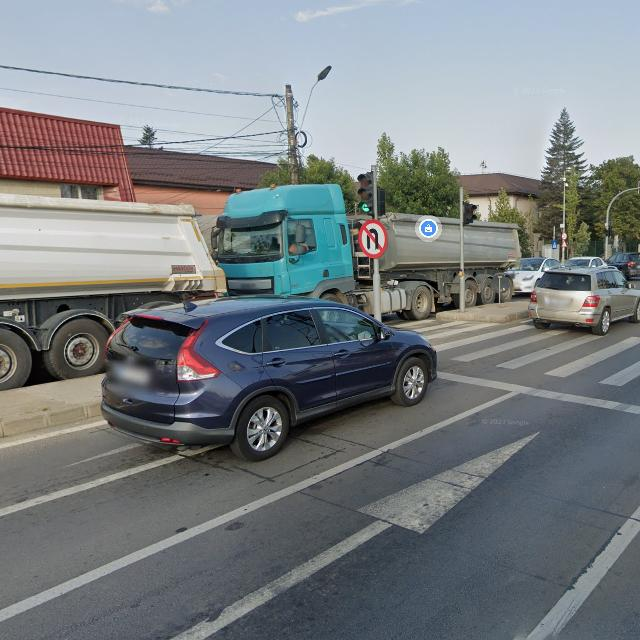forb_u_turn: (358, 219, 388, 257)
